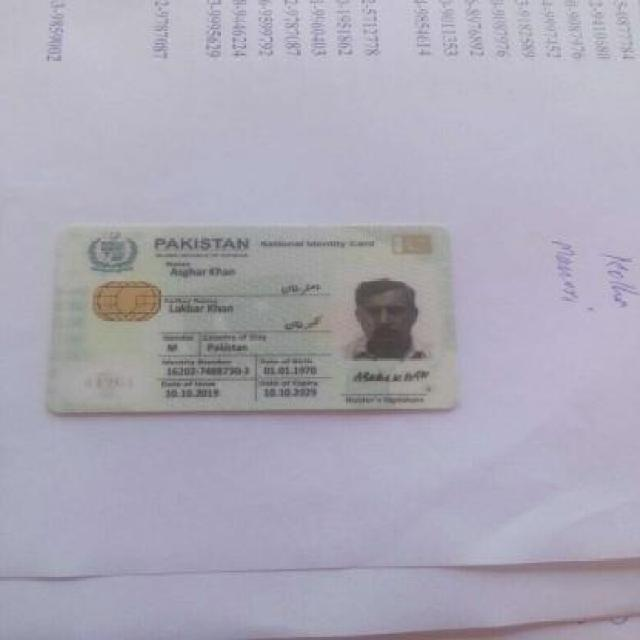Front: (39, 220, 462, 414)
